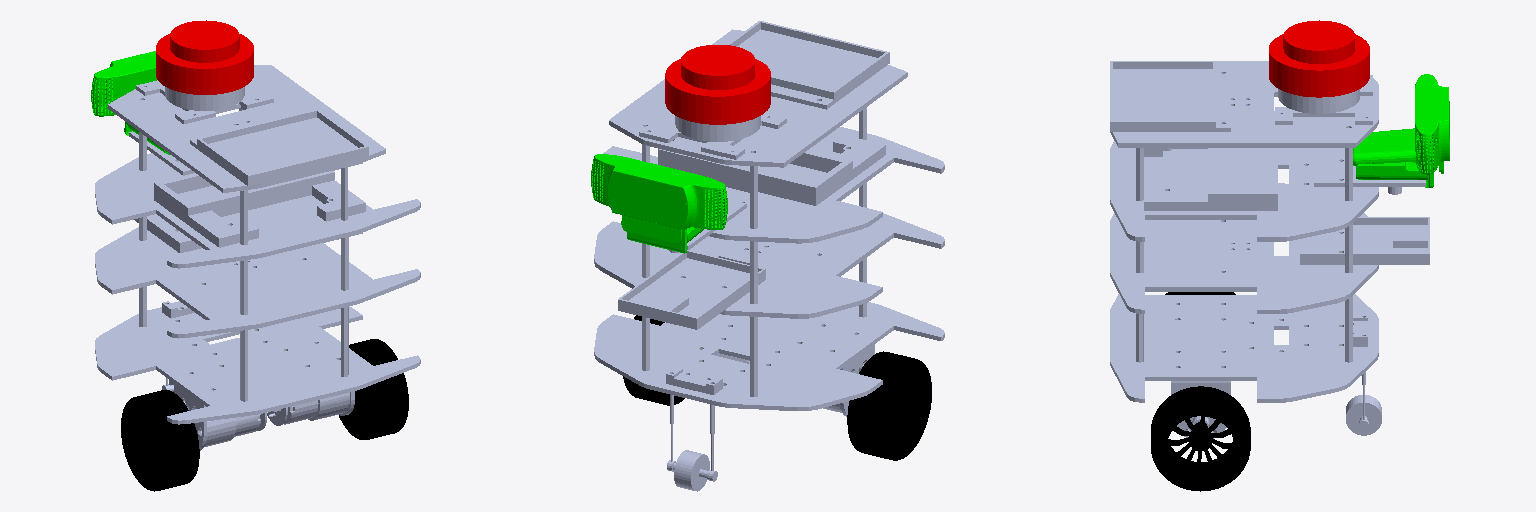
robot.urdf — description_Final:
<?xml version="1.0" encoding="utf-8"?>
<!-- This URDF was automatically created by SolidWorks to URDF Exporter! Originally created by [author] ([email redacted]) 
     Commit Version: 1.6.0-1-g15f4949  Build Version: 1.6.7594.29634
     For more information, please see http://wiki.ros.org/sw_urdf_exporter -->
<robot
  name="description_Final">
  <link
    name="base_link">
    <inertial>
      <origin
        xyz="-0.000142971691426059 0.115423583610439 -0.030061510069261"
        rpy="0 0 0" />
      <mass
        value="0.611423949361698" />
      <inertia
        ixx="0.000946824397381105"
        ixy="6.28672512616425E-10"
        ixz="-1.18502288179832E-08"
        iyy="0.00173498937418927"
        iyz="5.75095387957155E-07"
        izz="0.000818702393438044" />
    </inertial>
    <visual>
      <origin
        xyz="0 0 0"
        rpy="0 0 0" />
      <geometry>
        <mesh
          filename="package://description_Final/meshes/base_link.STL" />
      </geometry>
      <material
        name="">
        <color
          rgba="0.792156862745098 0.819607843137255 0.933333333333333 1" />
      </material>
    </visual>
    <collision>
      <origin
        xyz="0 0 0"
        rpy="0 0 0" />
      <geometry>
        <mesh
          filename="package://description_Final/meshes/base_link.STL" />
      </geometry>
    </collision>
  </link>
  <link
    name="lidar_link">
    <inertial>
      <origin
        xyz="-4.3368E-19 0 -0.012944"
        rpy="0 0 0" />
      <mass
        value="0.090366" />
      <inertia
        ixx="2.9262E-05"
        ixy="5.929E-37"
        ixz="8.6798E-22"
        iyy="2.9262E-05"
        iyz="3.4542E-21"
        izz="4.6984E-05" />
    </inertial>
    <visual>
      <origin
        xyz="0 0 0"
        rpy="0 0 0" />
      <geometry>
        <mesh
          filename="package://description_Final/meshes/lidar_link.STL" />
      </geometry>
      <material
        name="">
        <color
          rgba="1 0 0 1" />
      </material>
    </visual>
    <collision>
      <origin
        xyz="0 0 0"
        rpy="0 0 0" />
      <geometry>
        <mesh
          filename="package://description_Final/meshes/lidar_link.STL" />
      </geometry>
    </collision>
  </link>
  <joint
    name="lidar_joint"
    type="fixed">
    <origin
      xyz="-0.002 0.079323 0.22748"
      rpy="3.1416 0 0" />
    <parent
      link="base_link" />
    <child
      link="lidar_link" />
    <axis
      xyz="0 0 1" />
  </joint>
  <link
    name="camera_link">
    <inertial>
      <origin
        xyz="-1.3817E-06 0.028968 0.013904"
        rpy="0 0 0" />
      <mass
        value="0.084224" />
      <inertia
        ixx="1.3967E-05"
        ixy="-8.8461E-10"
        ixz="-1.0108E-09"
        iyy="3.7024E-05"
        iyz="1.5619E-07"
        izz="2.9817E-05" />
    </inertial>
    <visual>
      <origin
        xyz="0 0 0"
        rpy="0 0 0" />
      <geometry>
        <mesh
          filename="package://description_Final/meshes/camera_link.STL" />
      </geometry>
      <material
        name="">
        <color
          rgba="0 1 0 1" />
      </material>
    </visual>
    <collision>
      <origin
        xyz="0 0 0"
        rpy="0 0 0" />
      <geometry>
        <mesh
          filename="package://description_Final/meshes/camera_link.STL" />
      </geometry>
    </collision>
  </link>
  <joint
    name="camera_joint"
    type="fixed">
    <origin
      xyz="-0.0002 0.12998 0.15327"
      rpy="1.5478 0 -3.1416" />
    <parent
      link="base_link" />
    <child
      link="camera_link" />
    <axis
      xyz="0 0.99974 0.023" />
  </joint>
  <link
    name="imu_link">
    <inertial>
      <origin
        xyz="-0.0002247 -5.6379E-18 -0.0015"
        rpy="0 0 0" />
      <mass
        value="0.000942" />
      <inertia
        ixx="3.4363E-08"
        ixy="1.0476E-24"
        ixz="-7.3779E-26"
        iyy="1.9247E-08"
        iyz="-5.2115E-24"
        izz="5.2197E-08" />
    </inertial>
    <visual>
      <origin
        xyz="0 0 0"
        rpy="0 0 0" />
      <geometry>
        <mesh
          filename="package://description_Final/meshes/imu_link.STL" />
      </geometry>
      <material
        name="">
        <color
          rgba="0 0 1 1" />
      </material>
    </visual>
    <collision>
      <origin
        xyz="0 0 0"
        rpy="0 0 0" />
      <geometry>
        <mesh
          filename="package://description_Final/meshes/imu_link.STL" />
      </geometry>
    </collision>
  </link>
  <joint
    name="imu_joint"
    type="fixed">
    <origin
      xyz="0.000185 0.10695 0.041844"
      rpy="3.1416 0 -1.5708" />
    <parent
      link="base_link" />
    <child
      link="imu_link" />
    <axis
      xyz="0 0 0" />
  </joint>
  <link
    name="wheel_L_link">
    <inertial>
      <origin
        xyz="-0.016617 -8.7964E-12 -7.3698E-07"
        rpy="0 0 0" />
      <mass
        value="0.053158" />
      <inertia
        ixx="4.0958E-05"
        ixy="3.054E-15"
        ixz="2.443E-10"
        iyy="2.3293E-05"
        iyz="5.1359E-16"
        izz="2.3293E-05" />
    </inertial>
    <visual>
      <origin
        xyz="0 0 0"
        rpy="0 0 0" />
      <geometry>
        <mesh
          filename="package://description_Final/meshes/wheel_L_link.STL" />
      </geometry>
      <material
        name="">
        <color
          rgba="0 0 0 1" />
      </material>
    </visual>
    <collision>
      <origin
        xyz="0 0 0"
        rpy="0 0 0" />
      <geometry>
        <mesh
          filename="package://description_Final/meshes/wheel_L_link.STL" />
      </geometry>
    </collision>
  </link>
  <joint
    name="wheel_L_joint"
    type="continuous">
    <origin
      xyz="-0.0669 0 -0.00057926"
      rpy="-1.1094 0 0" />
    <parent
      link="base_link" />
    <child
      link="wheel_L_link" />
    <axis
      xyz="1 0 0" />
  </joint>
  <link
    name="wheel_R_link">
    <inertial>
      <origin
        xyz="-0.016617 -8.7963E-12 -7.3698E-07"
        rpy="0 0 0" />
      <mass
        value="0.053158" />
      <inertia
        ixx="4.0958E-05"
        ixy="3.054E-15"
        ixz="2.443E-10"
        iyy="2.3293E-05"
        iyz="5.1359E-16"
        izz="2.3293E-05" />
    </inertial>
    <visual>
      <origin
        xyz="0 0 0"
        rpy="0 0 0" />
      <geometry>
        <mesh
          filename="package://description_Final/meshes/wheel_R_link.STL" />
      </geometry>
      <material
        name="">
        <color
          rgba="0 0 0 1" />
      </material>
    </visual>
    <collision>
      <origin
        xyz="0 0 0"
        rpy="0 0 0" />
      <geometry>
        <mesh
          filename="package://description_Final/meshes/wheel_R_link.STL" />
      </geometry>
    </collision>
  </link>
  <joint
    name="wheel_R_joint"
    type="continuous">
    <origin
      xyz="0.0669 0 -0.00057926"
      rpy="0.069556 0 -3.1416" />
    <parent
      link="base_link" />
    <child
      link="wheel_R_link" />
    <axis
      xyz="1 0 0" />
  </joint>
</robot>

--- Render facts (derived) ---
Views: 3 orthographic renders of the robot side by side, from view 1: azimuth 30°, elevation 25°; view 2: azimuth 150°, elevation 25°; view 3: azimuth 270°, elevation 25°.
Model description_Final with 6 links and 5 joints (2 continuous, 3 fixed), rooted at base_link, posed every joint at zero.
Links seen in each view (by area): view 1: base_link, lidar_link, wheel_L_link, wheel_R_link, camera_link; view 2: base_link, camera_link, lidar_link, wheel_L_link, wheel_R_link; view 3: base_link, wheel_R_link, lidar_link, camera_link.
Boxes of the visible links, bbox=[...] form: base_link: bbox=[95, 65, 420, 450]; lidar_link: bbox=[156, 20, 253, 94]; wheel_L_link: bbox=[121, 390, 199, 491]; wheel_R_link: bbox=[339, 339, 408, 439]; camera_link: bbox=[91, 51, 169, 154]; base_link: bbox=[594, 21, 944, 491]; camera_link: bbox=[591, 154, 727, 253]; lidar_link: bbox=[665, 45, 770, 124]; wheel_L_link: bbox=[847, 351, 931, 460]; wheel_R_link: bbox=[623, 315, 684, 405]; base_link: bbox=[1110, 61, 1429, 438]; wheel_R_link: bbox=[1151, 386, 1250, 491]; lidar_link: bbox=[1269, 20, 1369, 97]; camera_link: bbox=[1353, 74, 1449, 187].
Size in the robot's own frame: 0.2 by 0.2277 by 0.2915 metres.
Meshes: 6 distinct files referenced, 5 mesh visuals loaded (5 binary STL); not drawn: 1 (reference not matched to a file when rendering).